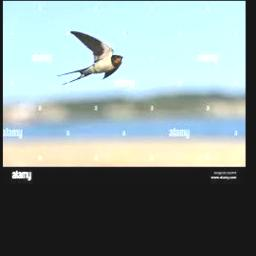Swallow: (58, 30, 122, 84)
